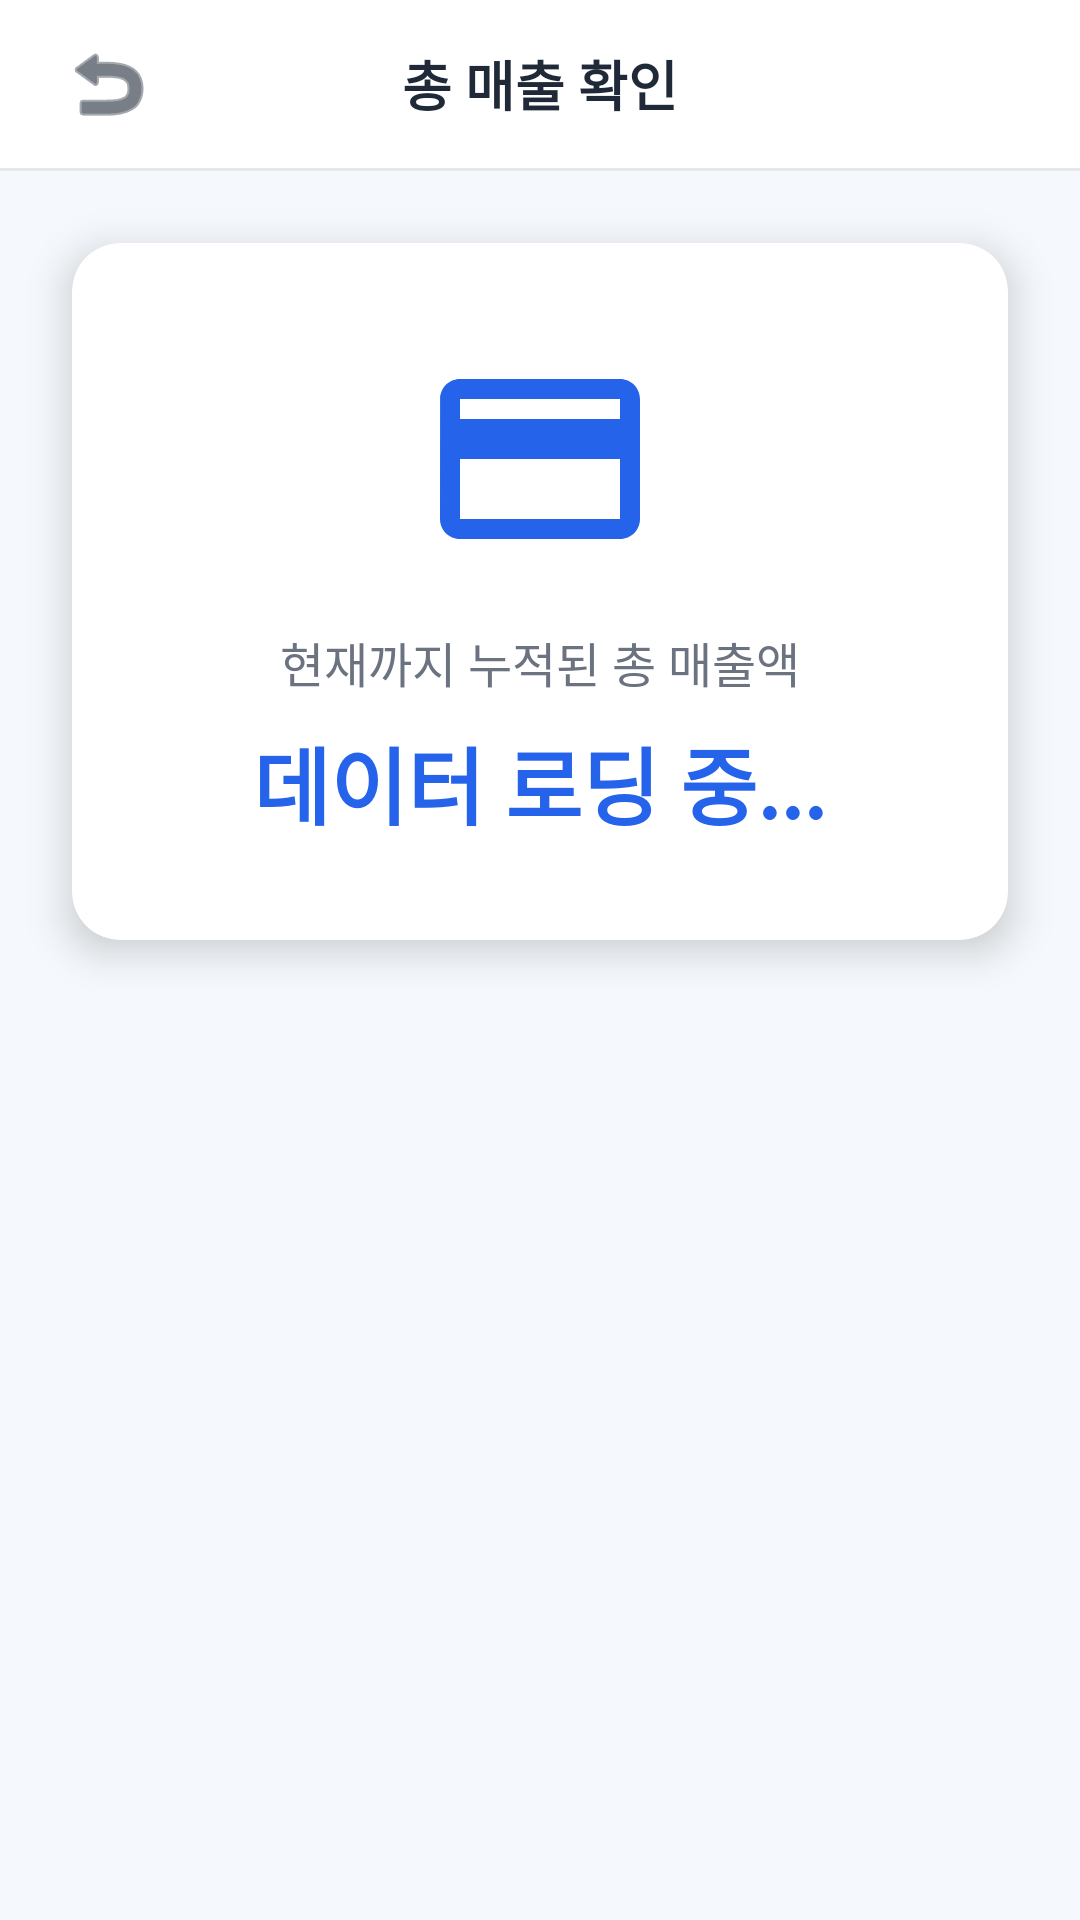

Icons on this 1080×1920 Android screen, each with its box as (left=x1, top=y1, right=x2, bottom=y2):
payment: (left=440, top=379, right=640, bottom=539)
revert: (left=75, top=53, right=144, bottom=116)
